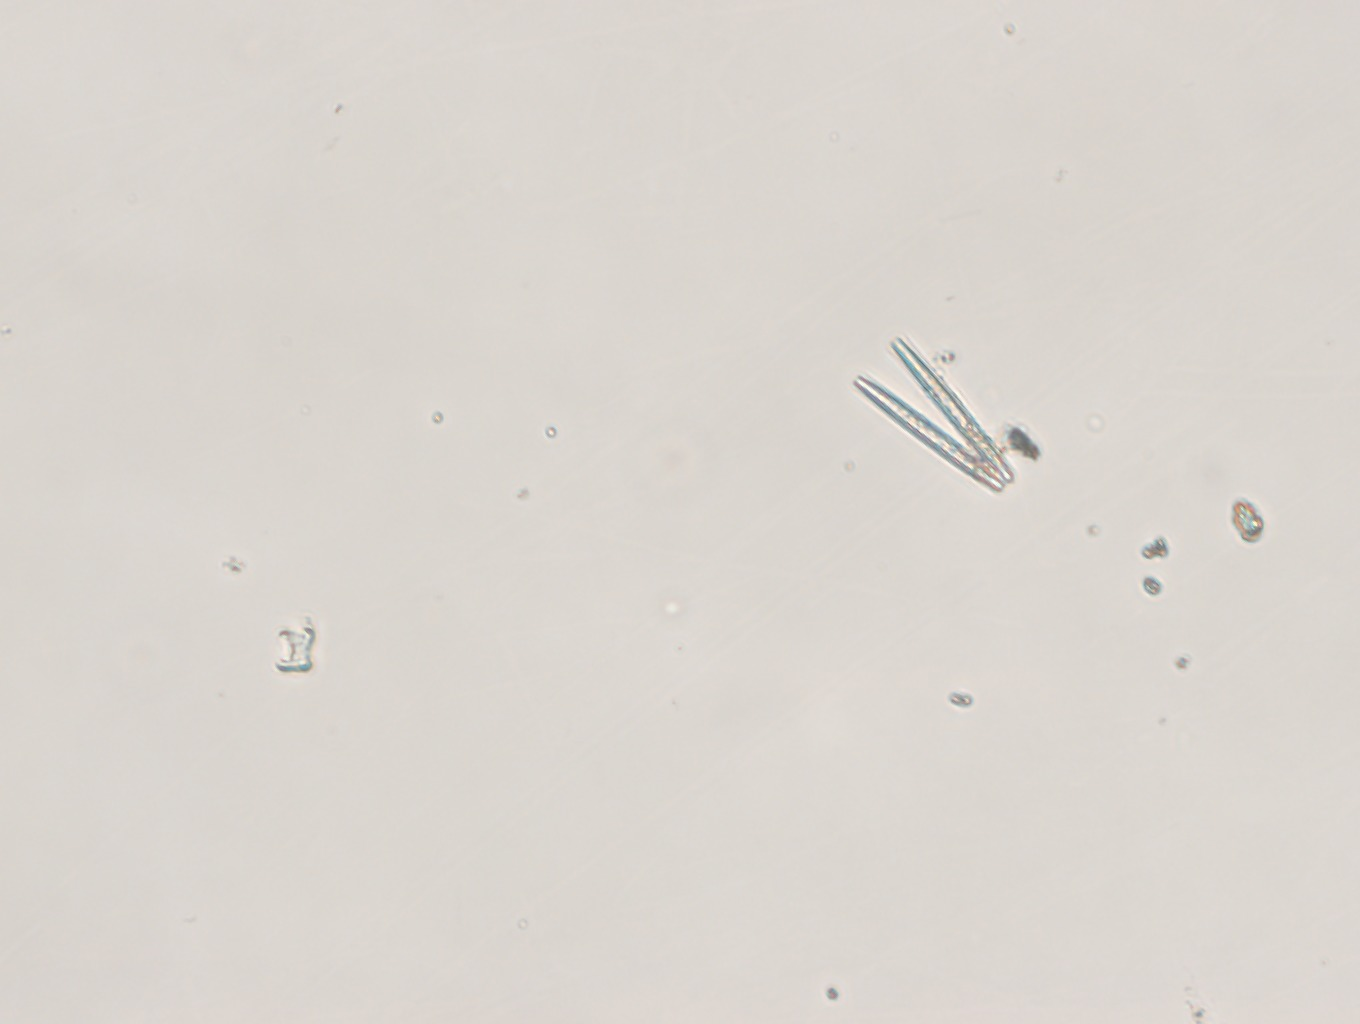thalassionema nitzschioides: (845, 336, 1028, 501)
